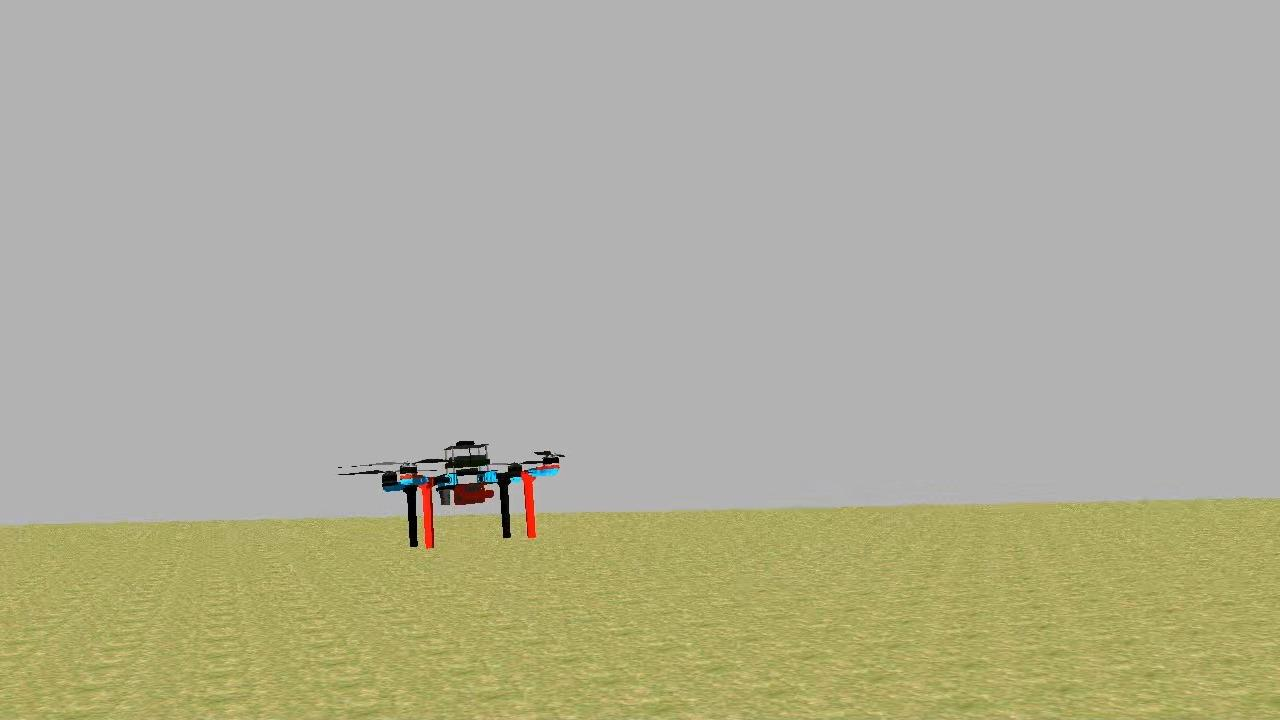UAV: (378, 434, 570, 554)
